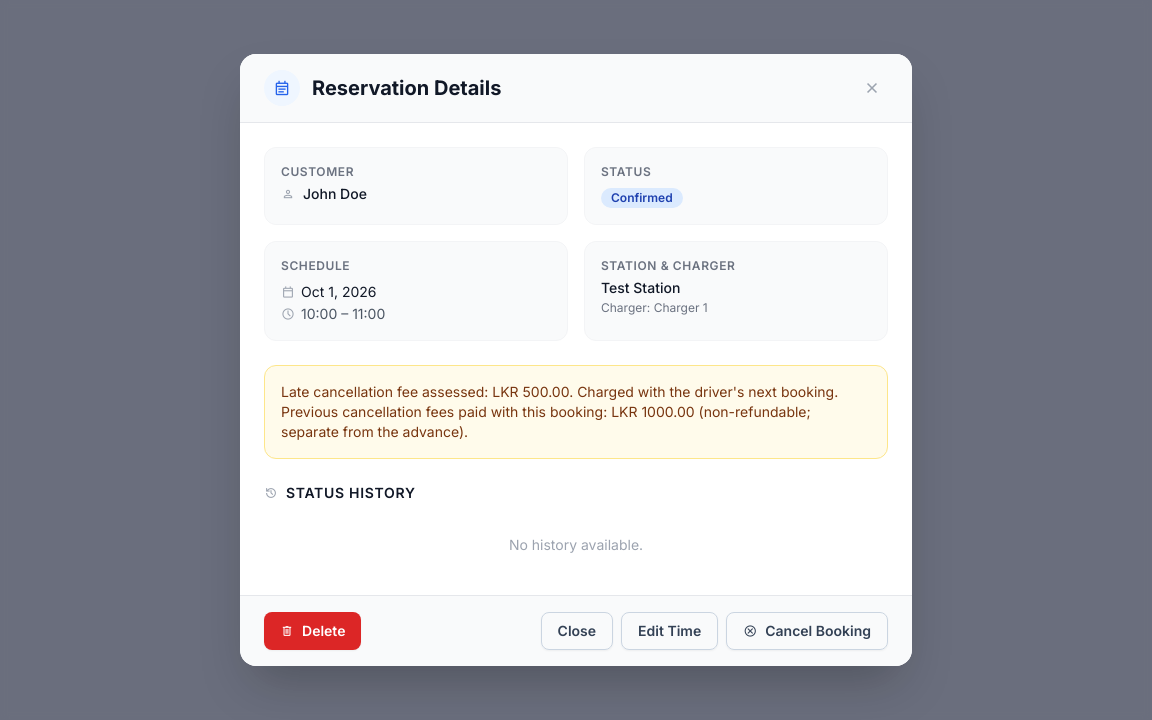
Scenario: ReservationDetailsModal › shows staff cancellation and both fee records without claiming a new fee
The image size is (1152, 720).
Click the button "Cancel Booking" at (807, 631), box [726,612,888,650]
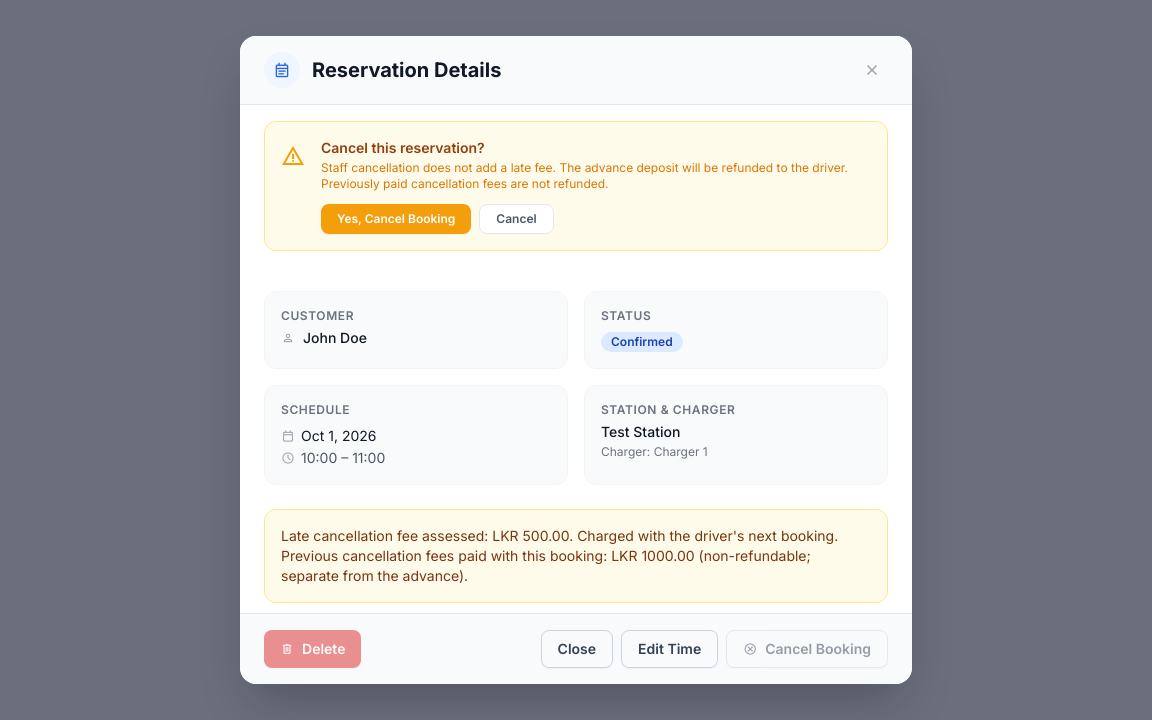
Check: the text "Late cancellation fee assessed: LKR 500.00" is shown, box [281,526,871,546]
Check: the text "Staff cancellation does not add a late fee" is shown, box [321,160,848,191]
